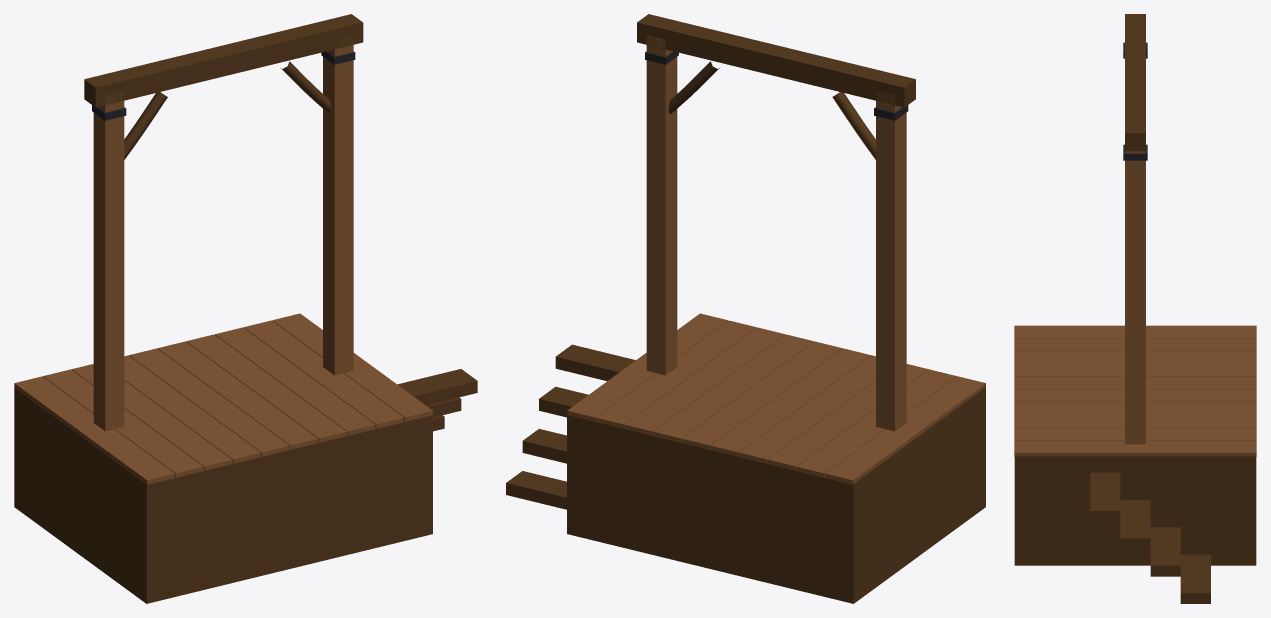
File: mia-gallows.glb
The picture shows the model from 3 angles, left to right: view 1: azimuth 30°, elevation 25°; view 2: azimuth 150°, elevation 25°; view 3: azimuth 270°, elevation 25°; orthographic projection. The views are drawn at different scales.
Parts seen in each view (by area): view 1: Body_wood, Body_oak; view 2: Body_wood, Body_oak; view 3: Body_oak, Body_wood.
Part boxes in pixels (<box>): Body_wood: <box>14,14,477,603</box>; Body_oak: <box>14,35,432,484</box>; Body_wood: <box>506,14,985,603</box>; Body_oak: <box>567,35,985,484</box>; Body_oak: <box>1014,151,1256,456</box>; Body_wood: <box>1014,14,1256,603</box>.
Size of the model in its own units: 3.9 by 4.7 by 2.41.
